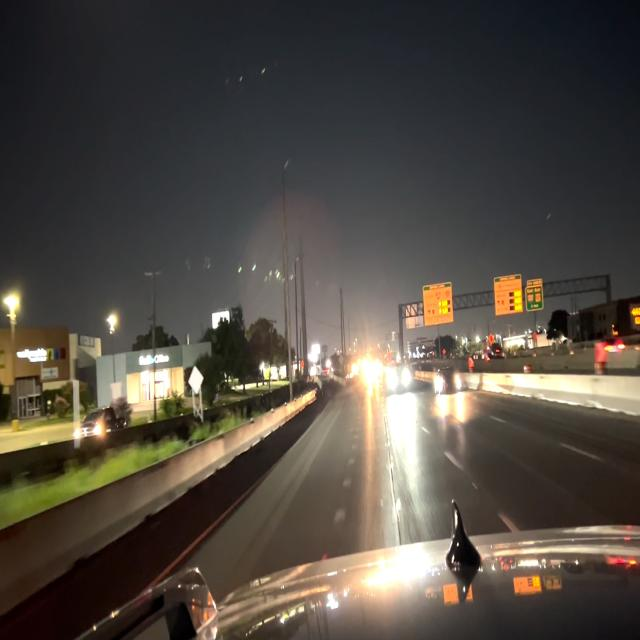back-of-sign: (405, 300, 424, 333)
